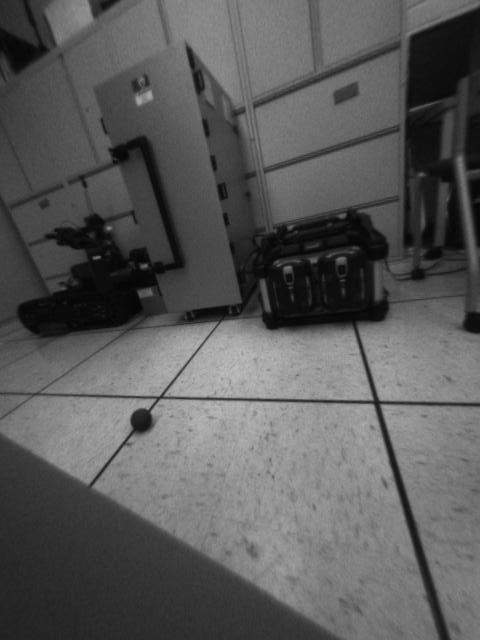dogtoy: (121, 404, 169, 440)
